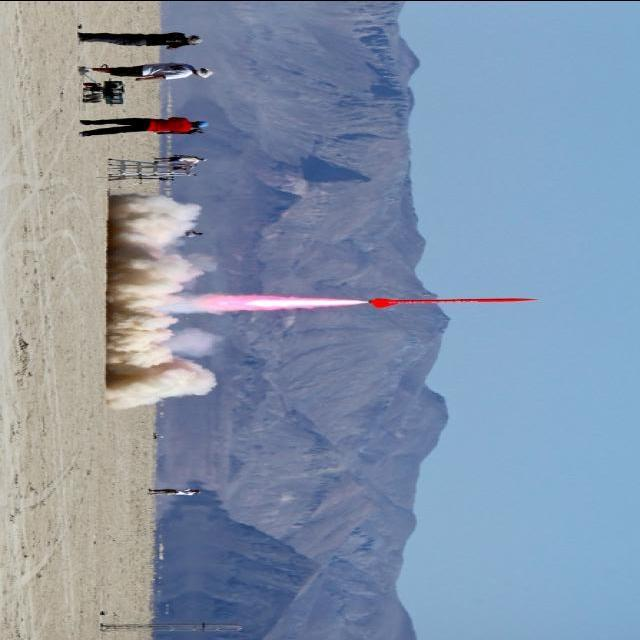Missile: (362, 293, 547, 309)
